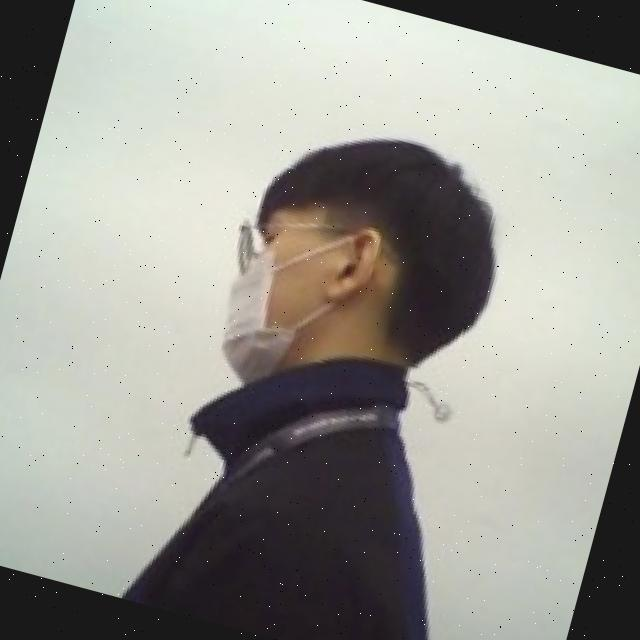mask: (190, 195, 392, 412)
no_gloves: (237, 95, 530, 322)
